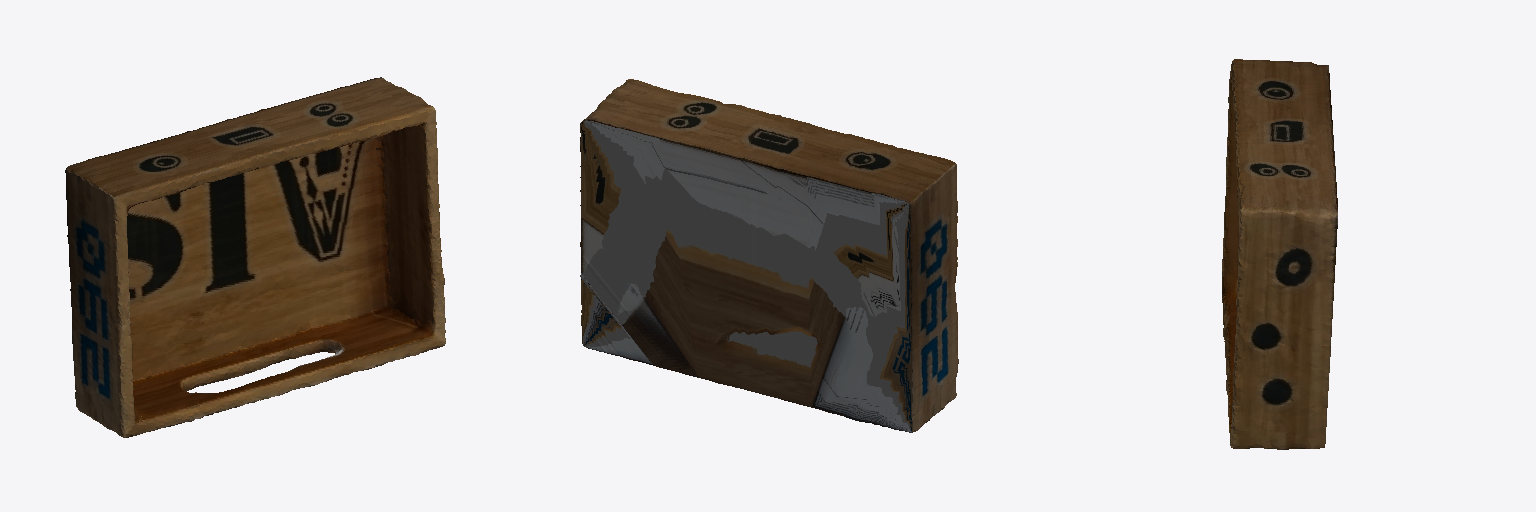
3 renders of one model, left to right at view 1: azimuth 30°, elevation 25°; view 2: azimuth 150°, elevation 25°; view 3: azimuth 270°, elevation 25°, orthographic.
Visible parts, largest first — view 1: boxlidleft; view 2: boxlidleft; view 3: boxlidleft.
Part boxes in pixels (bbox=[...]): boxlidleft: bbox=[65, 77, 445, 437]; boxlidleft: bbox=[580, 79, 958, 432]; boxlidleft: bbox=[1222, 59, 1337, 449].
Bounding box in the file's own units: 0.1597 × 0.1153 × 0.0483.
Materials: 2 (1 with a texture image).